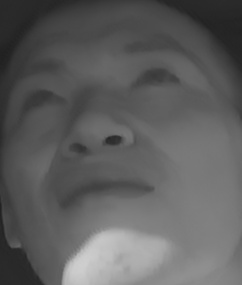eye: (131, 64, 182, 91), (19, 86, 72, 111)
mouth: (48, 164, 157, 218)
